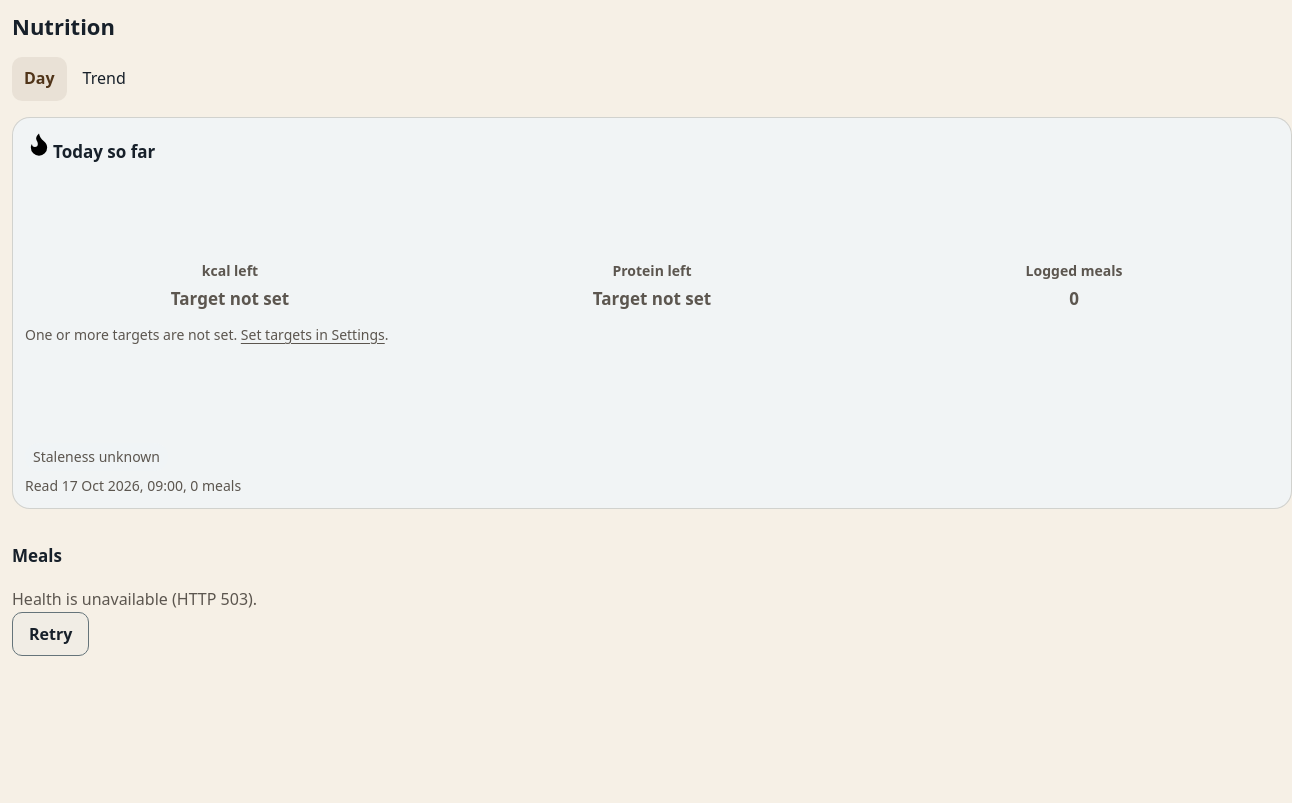
Test: Nutrition section › shows a recoverable meal read error without hiding the today card
Expected: the message "Health is unavailable (HTTP 503). Retry" is shown, [12,588,257,656]
Expected: the heading "Today so far" is shown, [25,130,155,163]
Click the button "Retry" at (51, 634), box [12,612,89,656]
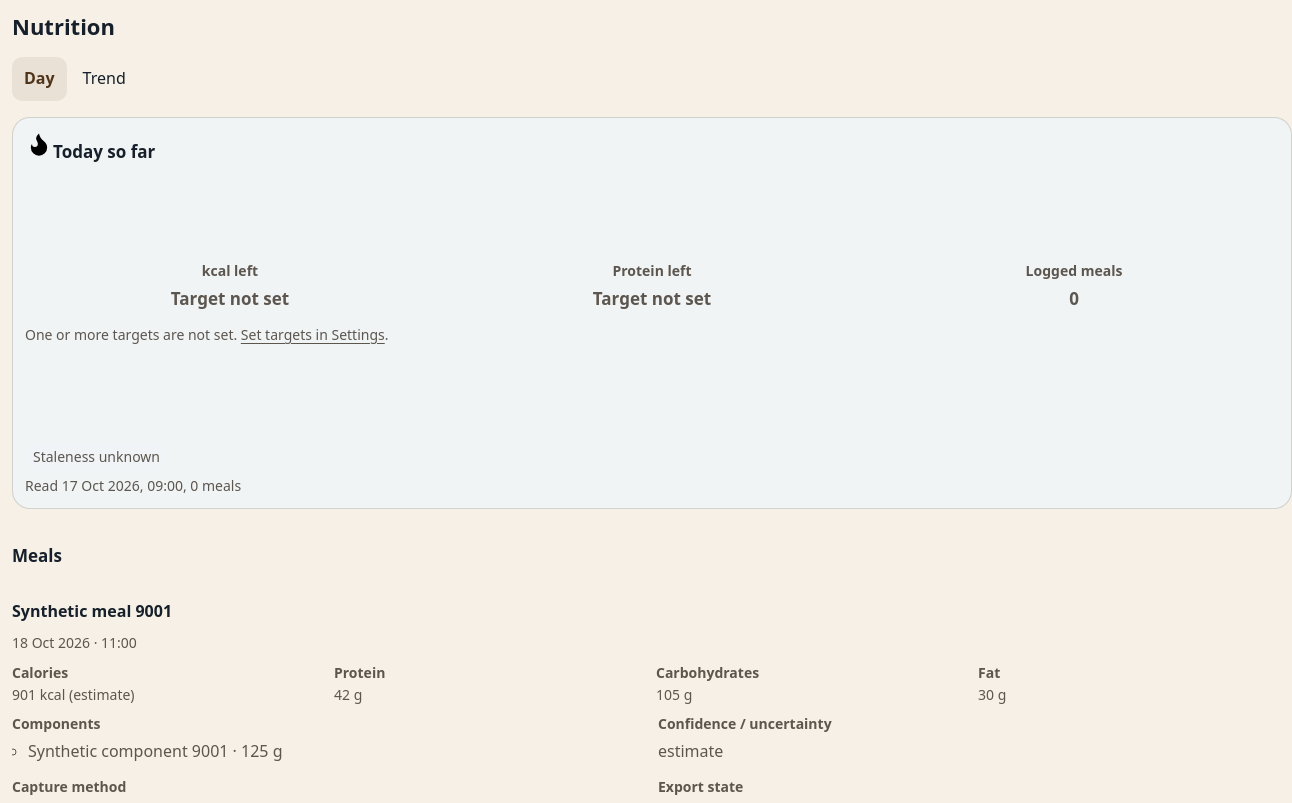
Expected: the heading "Synthetic meal 9001" is shown, [12,600,172,622]
